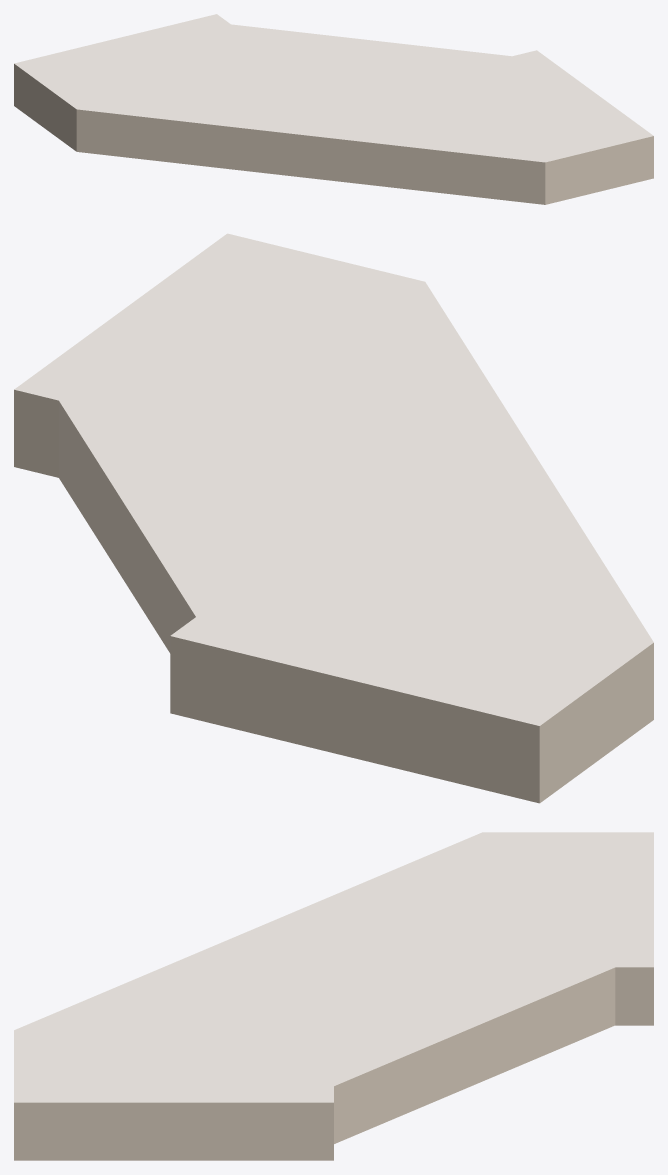
3 renders of one model, top to bottom at view 1: azimuth 30°, elevation 25°; view 2: azimuth 150°, elevation 25°; view 3: azimuth 270°, elevation 25°, orthographic. The views are drawn at different scales.
Visible parts, largest first — view 1: object1.012; view 2: object1.012; view 3: object1.012.
Boxes of the visible parts, x1,y1,x2,y2 form: object1.012: (14, 14, 653, 204); object1.012: (14, 233, 653, 803); object1.012: (14, 832, 653, 1160).
Size of the model in its own units: 2 by 0.2 by 2.
